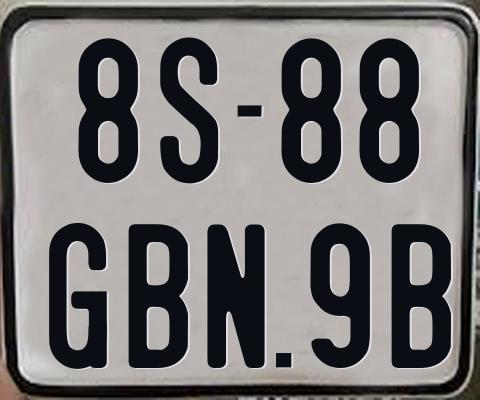8: (75, 37, 141, 186), (358, 37, 422, 188), (278, 37, 340, 183)
9: (310, 222, 373, 370)
B: (127, 224, 193, 372), (388, 223, 448, 368)
G: (46, 223, 107, 371)
N: (205, 221, 267, 371)
S: (159, 34, 220, 186)
